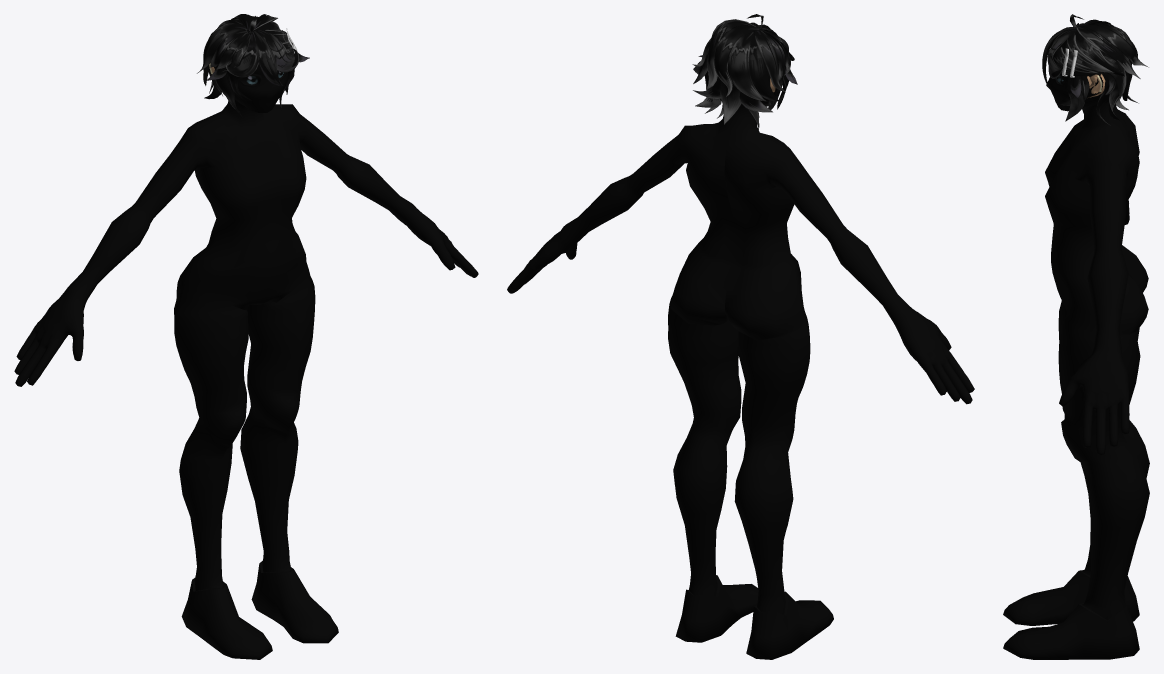
Rendered from MeinGott.glb.
3 renders of one model, left to right at view 1: azimuth 30°, elevation 25°; view 2: azimuth 150°, elevation 25°; view 3: azimuth 270°, elevation 25°, orthographic.
Parts seen in each view (by area): view 1: prueba, Hayr 4x4UV.003; view 2: prueba, Hayr 4x4UV.003; view 3: prueba, Hayr 4x4UV.003.
Part boxes in pixels (x1,y1,x2,y2): prueba: [14, 27, 478, 659]; Hayr 4x4UV.003: [197, 14, 309, 119]; prueba: [507, 32, 974, 659]; Hayr 4x4UV.003: [692, 14, 797, 129]; prueba: [1003, 23, 1149, 659]; Hayr 4x4UV.003: [1042, 14, 1148, 125].
Bounding box in the file's own units: 7.15 × 9.04 × 1.96.
Materials: 2 (2 with a texture image).
